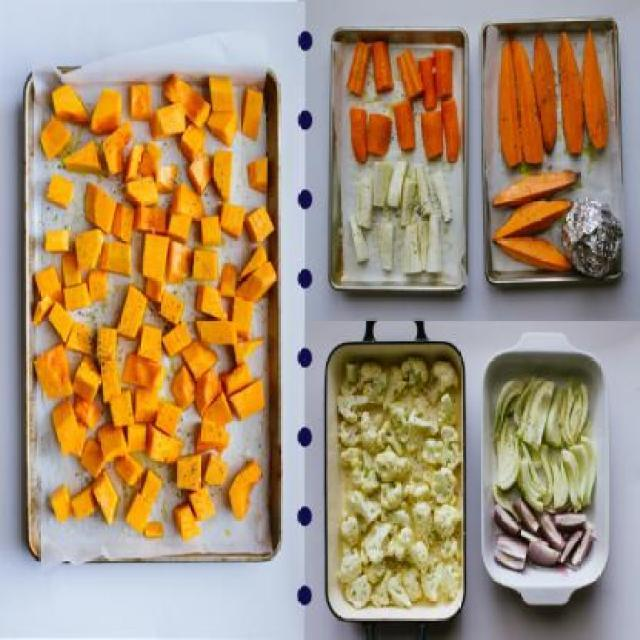Carrot: (497, 32, 625, 176), (397, 49, 426, 100), (348, 42, 370, 98), (434, 49, 456, 100), (422, 110, 446, 156), (368, 115, 396, 154), (373, 38, 392, 94), (440, 99, 456, 164), (394, 103, 416, 149), (350, 108, 368, 164)
